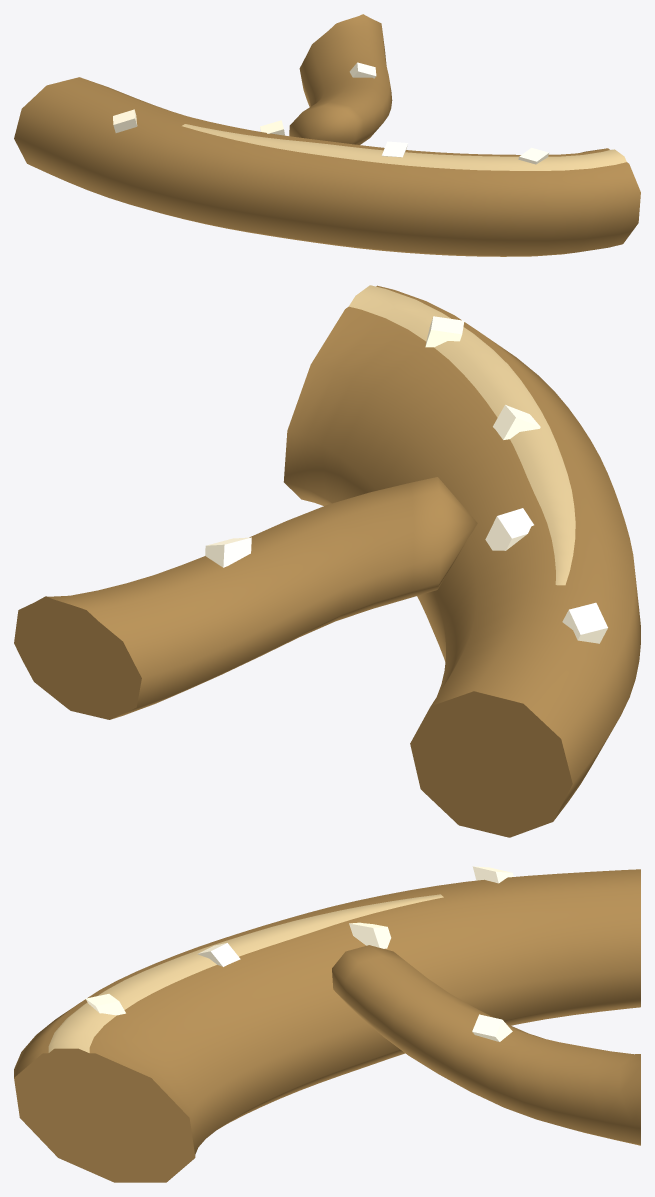
The model's file is shot_superpretzel_b129.glb.
3 renders of one model, top to bottom at view 1: azimuth 30°, elevation 25°; view 2: azimuth 150°, elevation 25°; view 3: azimuth 270°, elevation 25°, orthographic. The views are drawn at different scales.
Parts seen in each view (by area): view 1: sp_rope_b129, sp_split_b129, sp_salt.014_b129; view 2: sp_rope_b129, sp_split_b129, sp_salt.013_b129, sp_salt.014_b129, sp_salt_b129, sp_salt.012_b129, sp_salt.011_b129; view 3: sp_rope_b129, sp_split_b129, sp_salt.013_b129, sp_salt_b129, sp_salt.012_b129, sp_salt.011_b129, sp_salt.014_b129.
Boxes of the visible parts, x1,y1,x2,y2 form: sp_rope_b129: (14, 14, 640, 256); sp_split_b129: (182, 124, 626, 170); sp_salt.014_b129: (113, 109, 137, 132); sp_rope_b129: (14, 285, 640, 837); sp_split_b129: (349, 285, 575, 585); sp_salt.013_b129: (485, 508, 533, 550); sp_salt.014_b129: (562, 602, 607, 643); sp_salt_b129: (205, 537, 251, 567); sp_salt.012_b129: (493, 405, 540, 439); sp_salt.011_b129: (425, 316, 464, 347); sp_rope_b129: (14, 869, 640, 1182); sp_split_b129: (48, 894, 443, 1059); sp_salt.013_b129: (349, 922, 391, 948); sp_salt_b129: (472, 1014, 512, 1041); sp_salt.012_b129: (197, 943, 240, 966); sp_salt.011_b129: (86, 994, 125, 1015); sp_salt.014_b129: (472, 866, 513, 883).
Size of the model in its own units: 11.06 by 3.33 by 13.09.
